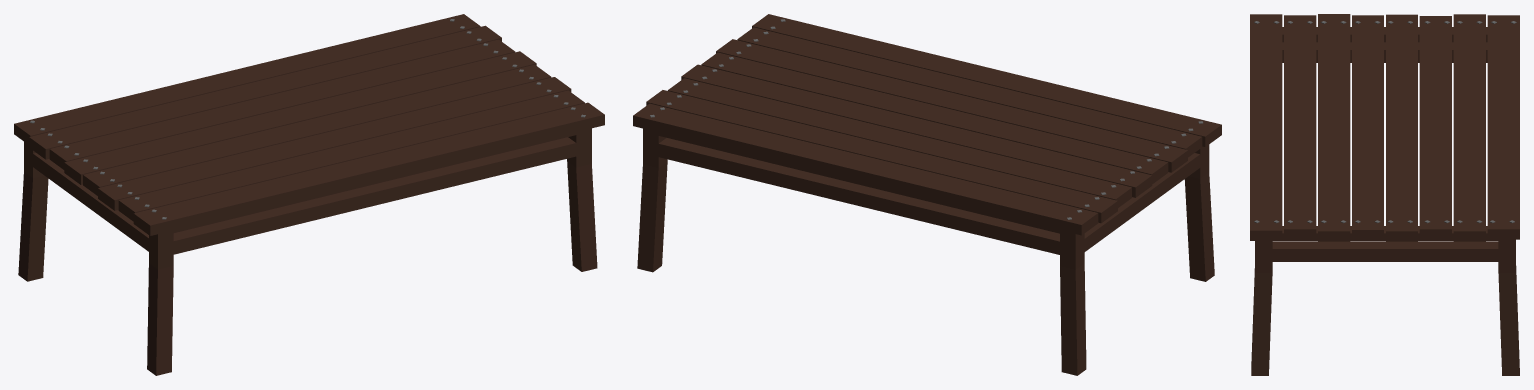
Rendered from table.fbx.
The picture shows the model from 3 angles, left to right: view 1: azimuth 30°, elevation 25°; view 2: azimuth 150°, elevation 25°; view 3: azimuth 270°, elevation 25°; orthographic projection. The views are drawn at different scales.
Parts seen in each view (by area): view 1: Table; view 2: Table; view 3: Table.
Part boxes in pixels (x1,y1,x2,y2): Table: [14, 14, 604, 375]; Table: [633, 14, 1221, 375]; Table: [1250, 14, 1519, 375].
Size of the model in its own units: 4122 by 1319 by 2161.
